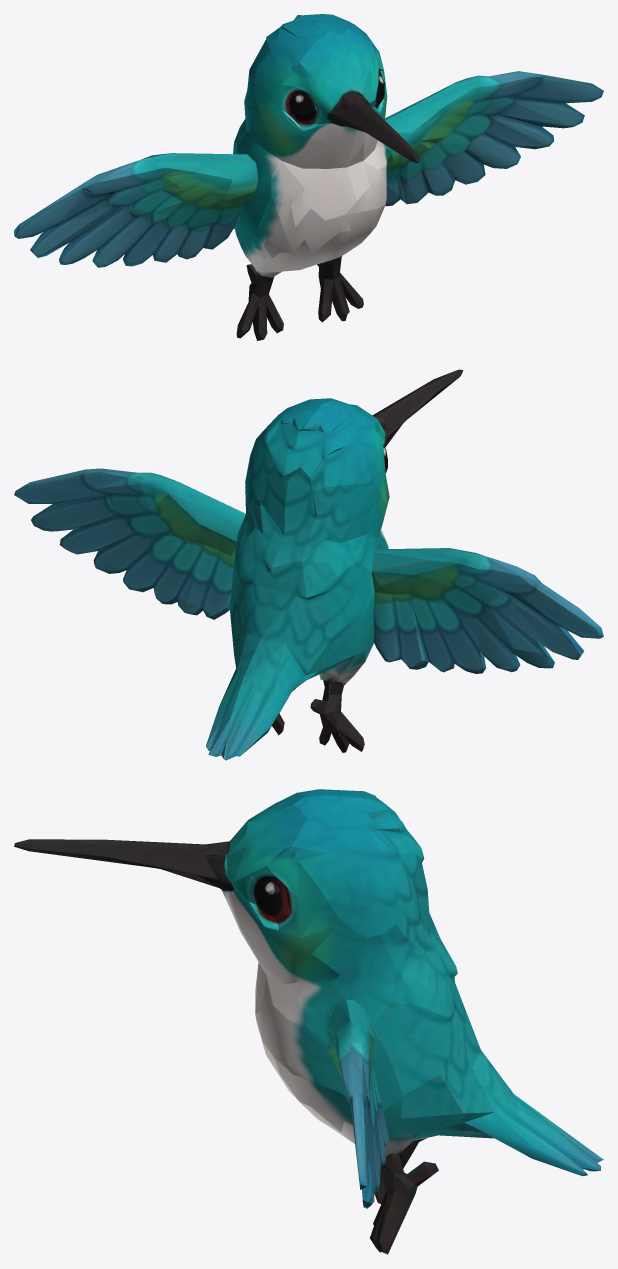
The model's file is toy-hummingbird.prefab.glb.
3 renders of one model, top to bottom at view 1: azimuth 30°, elevation 25°; view 2: azimuth 150°, elevation 25°; view 3: azimuth 270°, elevation 25°, orthographic. The views are drawn at different scales.
Parts seen in each view (by area): view 1: Prize_Batch0; view 2: Prize_Batch0; view 3: Prize_Batch0.
Boxes of the visible parts, left/top/right/bottom form: Prize_Batch0: left=14, top=14, right=603, bottom=340; Prize_Batch0: left=14, top=369, right=603, bottom=760; Prize_Batch0: left=14, top=789, right=603, bottom=1254.
Bounding box in the file's own units: 0.038 × 0.02 × 0.0249.
Materials: 1 (1 with a texture image).
